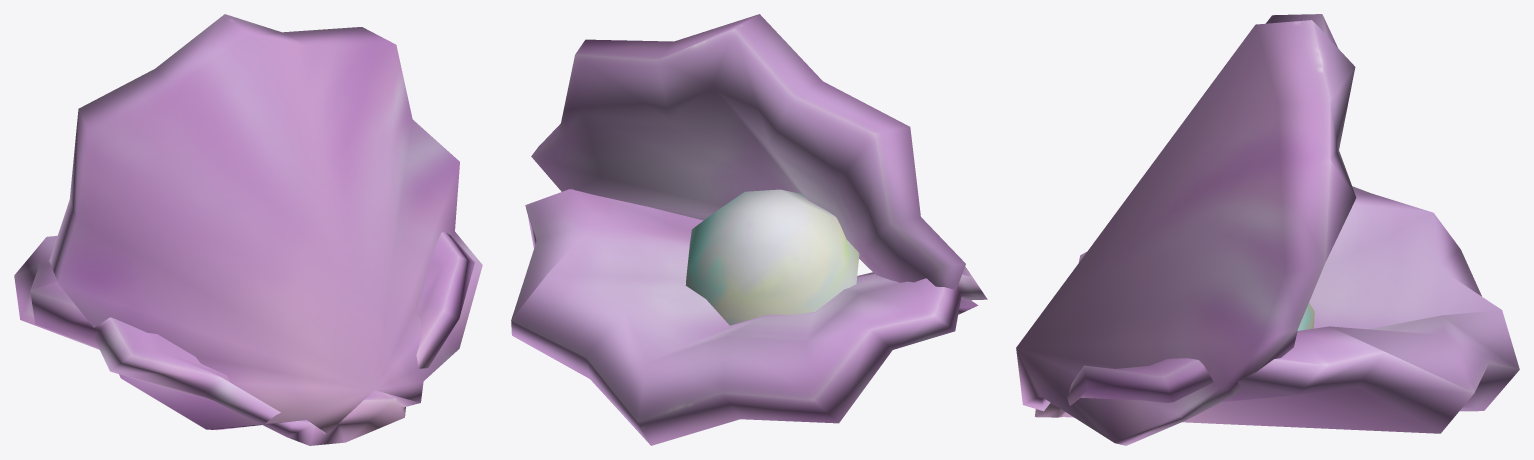
File: shell.fbx
The picture shows the model from 3 angles, left to right: view 1: azimuth 30°, elevation 25°; view 2: azimuth 150°, elevation 25°; view 3: azimuth 270°, elevation 25°; orthographic projection. The views are drawn at different scales.
Parts seen in each view (by area): view 1: pSphere2; view 2: pSphere2; view 3: pSphere2.
Boxes of the visible parts, x1,y1,x2,y2 form: pSphere2: (14, 14, 482, 445); pSphere2: (511, 14, 987, 445); pSphere2: (1016, 14, 1519, 445).
Size of the model in its own units: 3.36 by 2.71 by 3.16.
